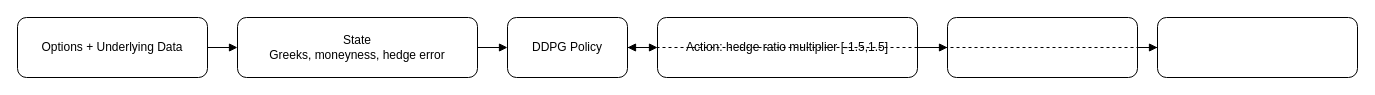
The diagram is 1375 pixels wide and 95 high, and some of its shapes have lost their labels. The centre of each missing label's shape, as x and y in pixels:
"Delta Hedging Env rehedge, costs" goes at (1042,47).
"Reward gamma profits - hedge error" goes at (1257,47).
